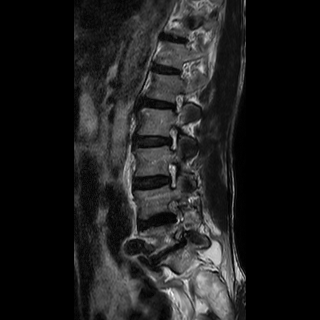LFS0: (159, 157, 184, 191), (161, 118, 182, 155), (166, 88, 188, 116)
